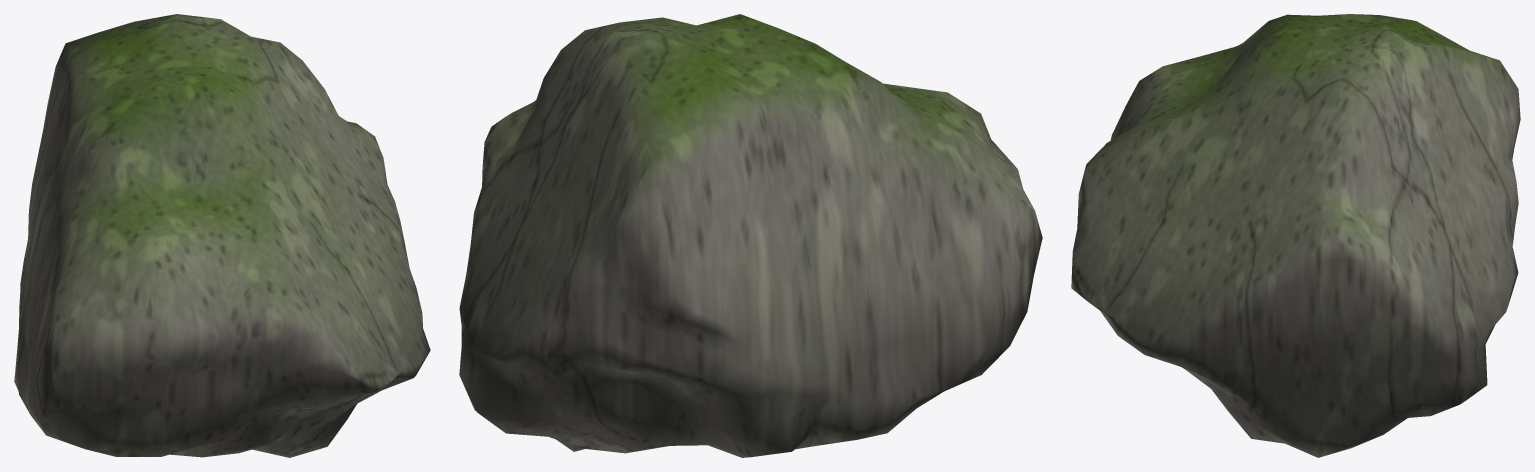
File: rock-mossy-0.lite.glb
The picture shows the model from 3 angles, left to right: view 1: azimuth 30°, elevation 25°; view 2: azimuth 150°, elevation 25°; view 3: azimuth 270°, elevation 25°; orthographic projection. The views are drawn at different scales.
Visible parts, largest first — view 1: model; view 2: model; view 3: model.
Part boxes in pixels (x1,y1,x2,y2): model: (14,14,430,457); model: (459,14,1042,457); model: (1071,14,1520,457).
Bounding box in the file's own units: 1 × 0.9504 × 1.02.
1 material, 1 textured.
